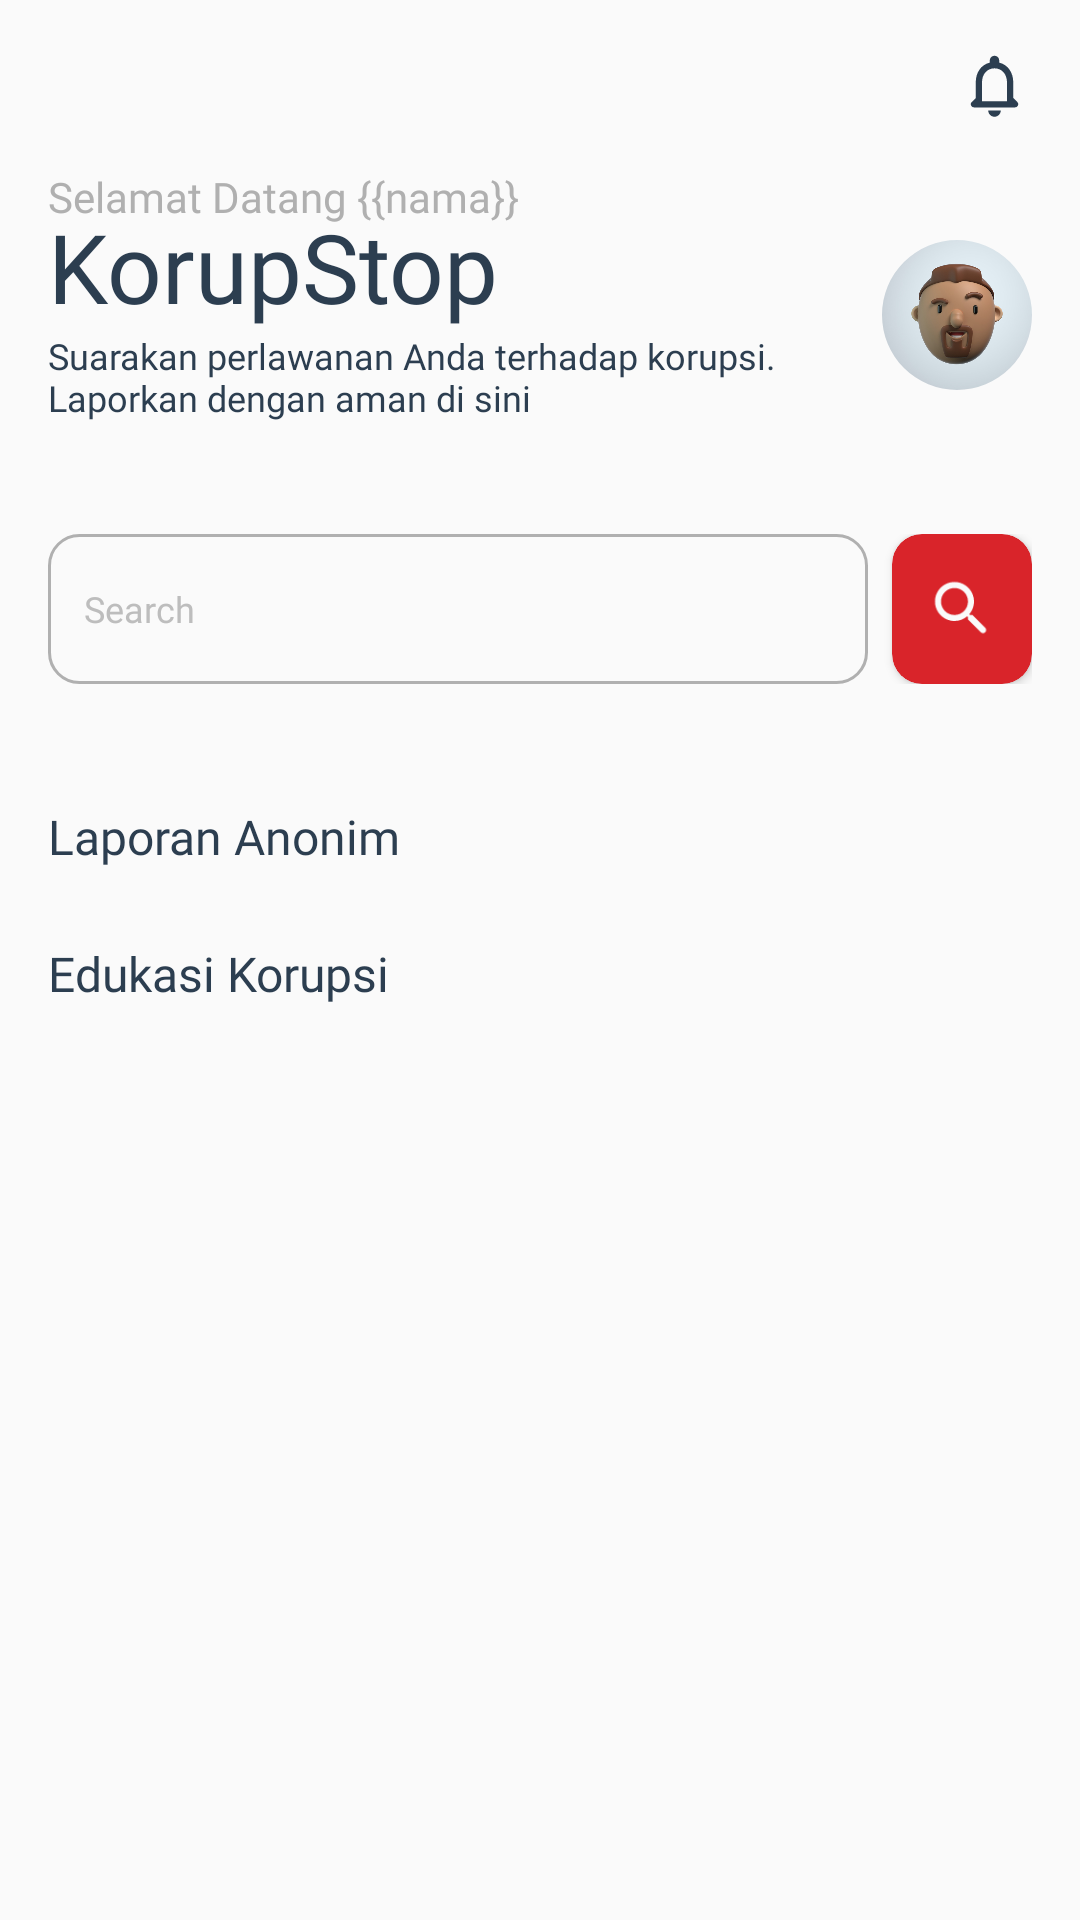

Named icons in this screenshot (1080px x 1920px) and their centers, point (x, y):
notification: point (994, 86)
profile: point (957, 315)
